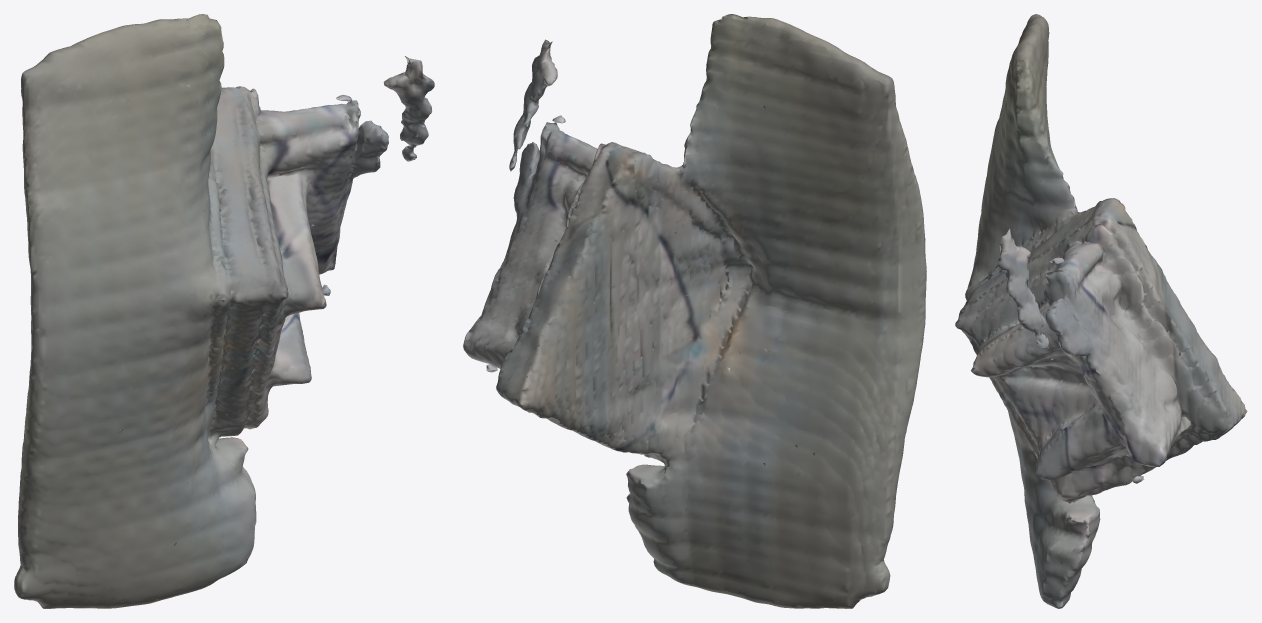
The model's file is clean.fbx.
The picture shows the model from 3 angles, left to right: view 1: azimuth 30°, elevation 25°; view 2: azimuth 150°, elevation 25°; view 3: azimuth 270°, elevation 25°; orthographic projection. The views are drawn at different scales.
Parts seen in each view (by area): view 1: raw; view 2: raw; view 3: raw.
Boxes of the visible parts, x1,y1,x2,y2 form: raw: (14, 14, 434, 608); raw: (463, 14, 926, 608); raw: (955, 14, 1247, 608).
Size of the model in its own units: 72.32 by 100 by 50.01.
1 material, 1 textured.
